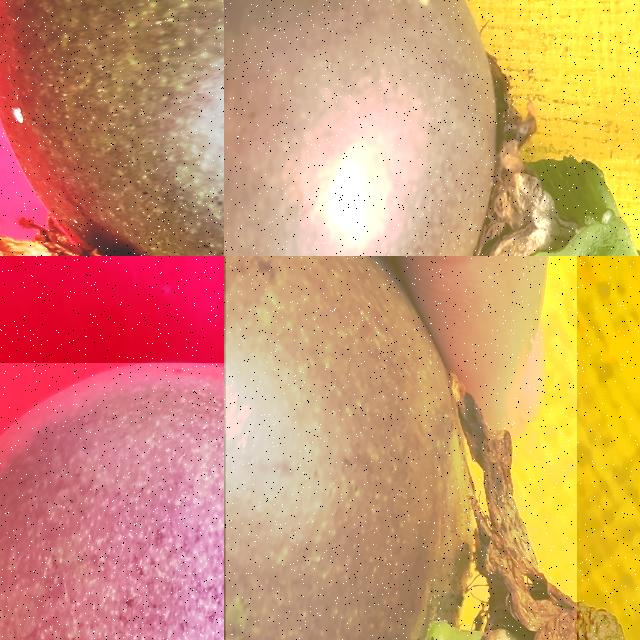Estado-3: (224, 0, 640, 256), (0, 362, 224, 640), (0, 0, 224, 256)
Estado-4: (225, 256, 476, 640)
